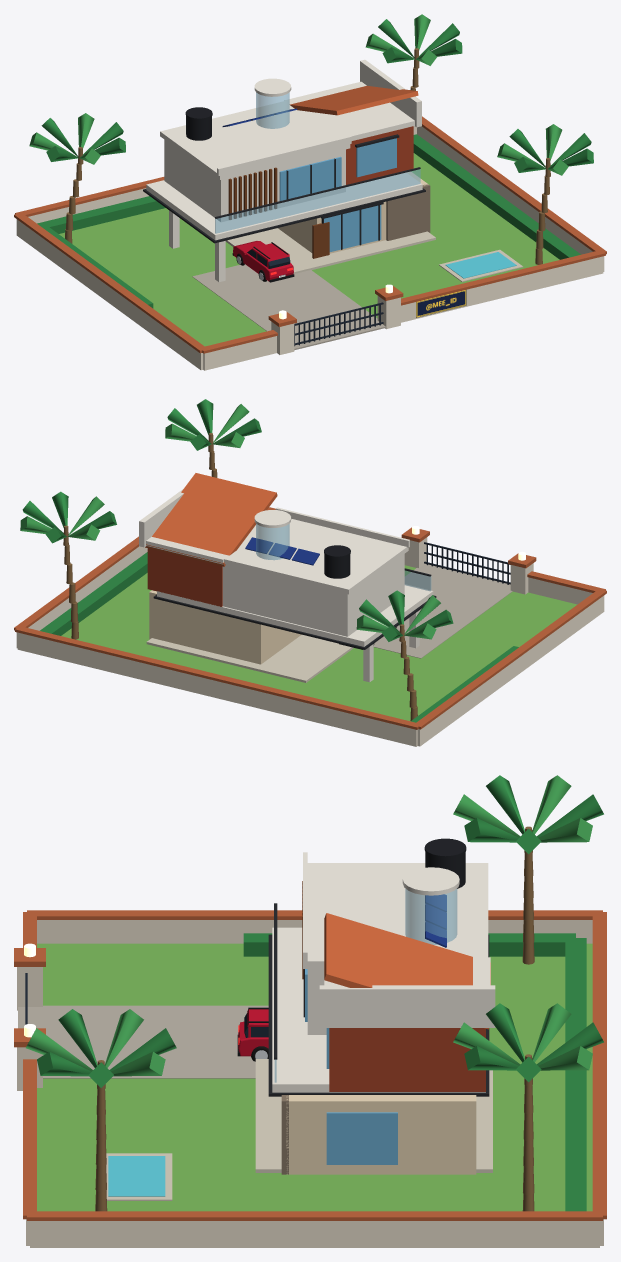
Rendered from duplex.glb.
3 renders of one model, top to bottom at view 1: azimuth 30°, elevation 25°; view 2: azimuth 150°, elevation 25°; view 3: azimuth 270°, elevation 25°, orthographic. The views are drawn at different scales.
Bounding box in the file's own units: 31.68 × 10.07 × 24.98.
34 materials, 3 textured.
